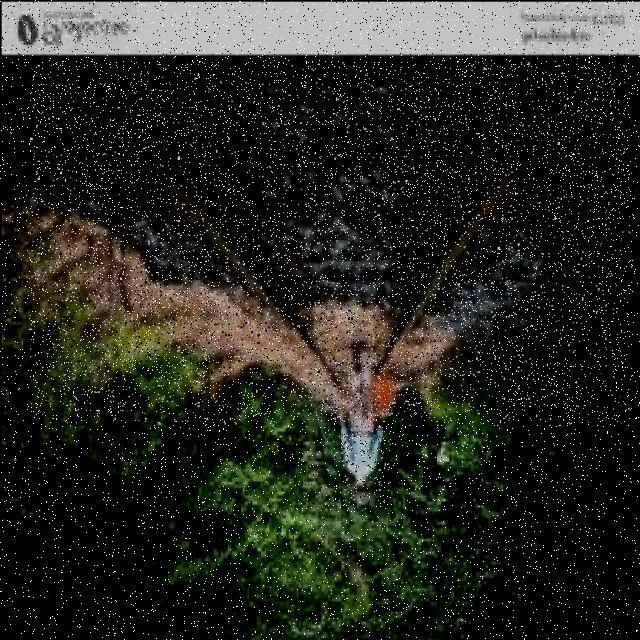danger: (332, 338, 390, 502)
rail: (30, 61, 630, 423)
